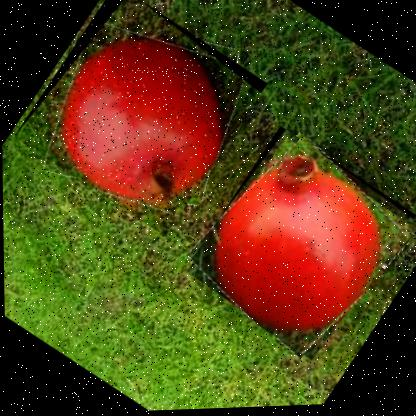pomegranate: (10, 0, 270, 243), (177, 122, 415, 373)
